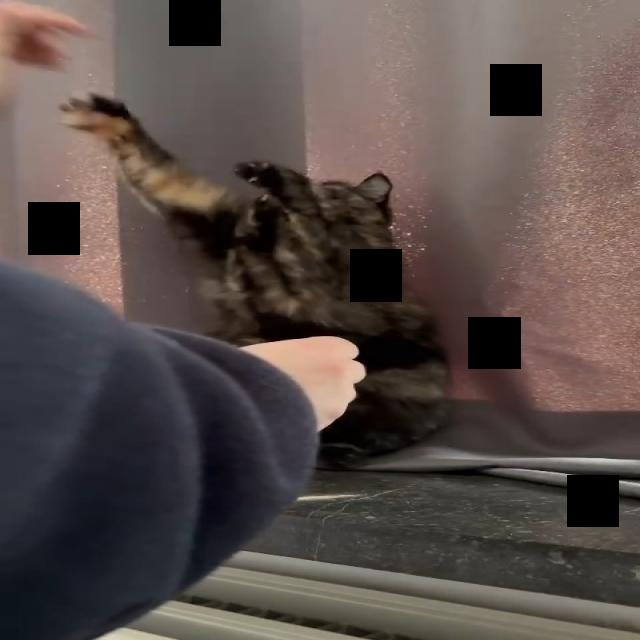authorized: (57, 91, 455, 469)
